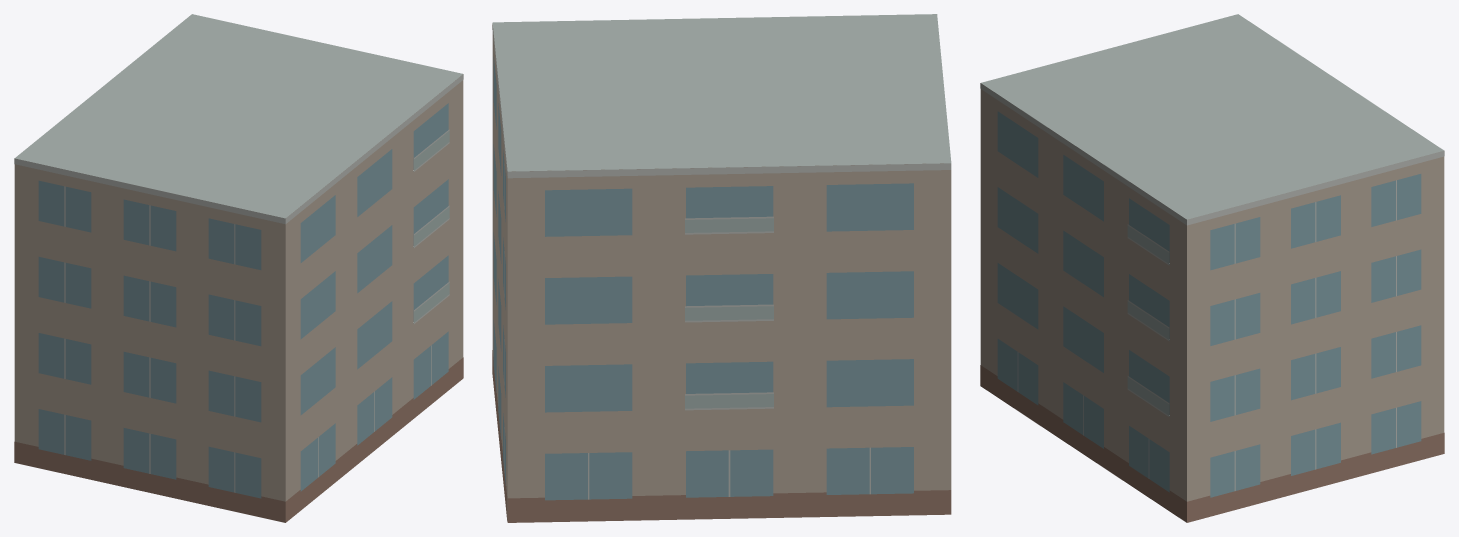
Rendered from survey-upis-33006359.glb.
3 renders of one model, left to right at view 1: azimuth 30°, elevation 25°; view 2: azimuth 150°, elevation 25°; view 3: azimuth 270°, elevation 25°, orthographic. The views are drawn at different scales.
Parts seen in each view (by area): view 1: survey-upis-33006359.tmp; view 2: survey-upis-33006359.tmp; view 3: survey-upis-33006359.tmp.
Boxes of the visible parts, bbox=[...] form: survey-upis-33006359.tmp: bbox=[14, 14, 463, 522]; survey-upis-33006359.tmp: bbox=[492, 14, 951, 522]; survey-upis-33006359.tmp: bbox=[980, 14, 1444, 522].
Bounding box in the file's own units: 18.56 × 12.75 × 17.69.
